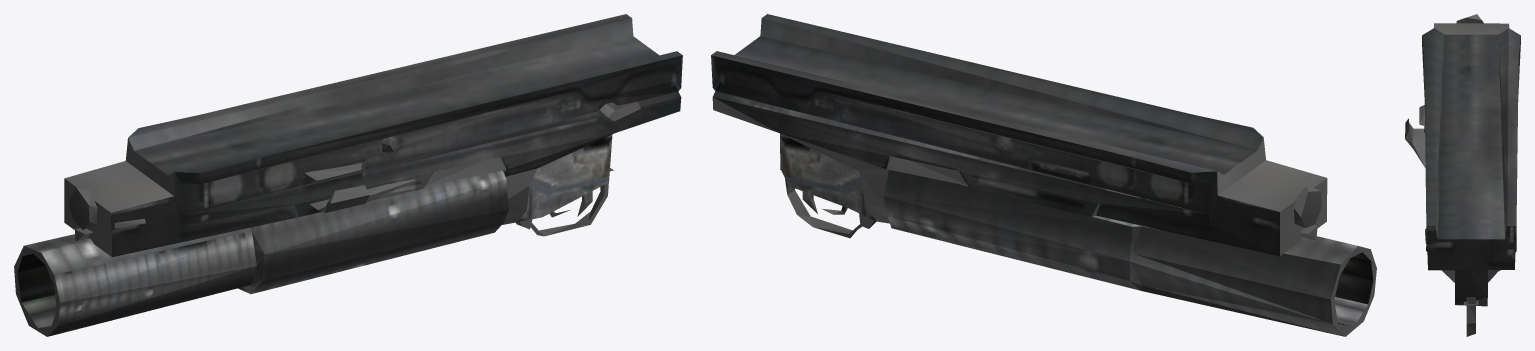
3 views of the same model, side by side, from view 1: azimuth 30°, elevation 25°; view 2: azimuth 150°, elevation 25°; view 3: azimuth 270°, elevation 25° (orthographic). The views are drawn at different scales.
Parts seen in each view (by area): view 1: W_Gl5040; view 2: W_Gl5040; view 3: W_Gl5040.
Part boxes in pixels (x1=…): W_Gl5040: x1=14, y1=14, x2=682, y2=336; W_Gl5040: x1=711, y1=14, x2=1376, y2=336; W_Gl5040: x1=1405, y1=14, x2=1520, y2=336.
Size of the model in its own units: 4.39 by 1.2 by 0.8927.
